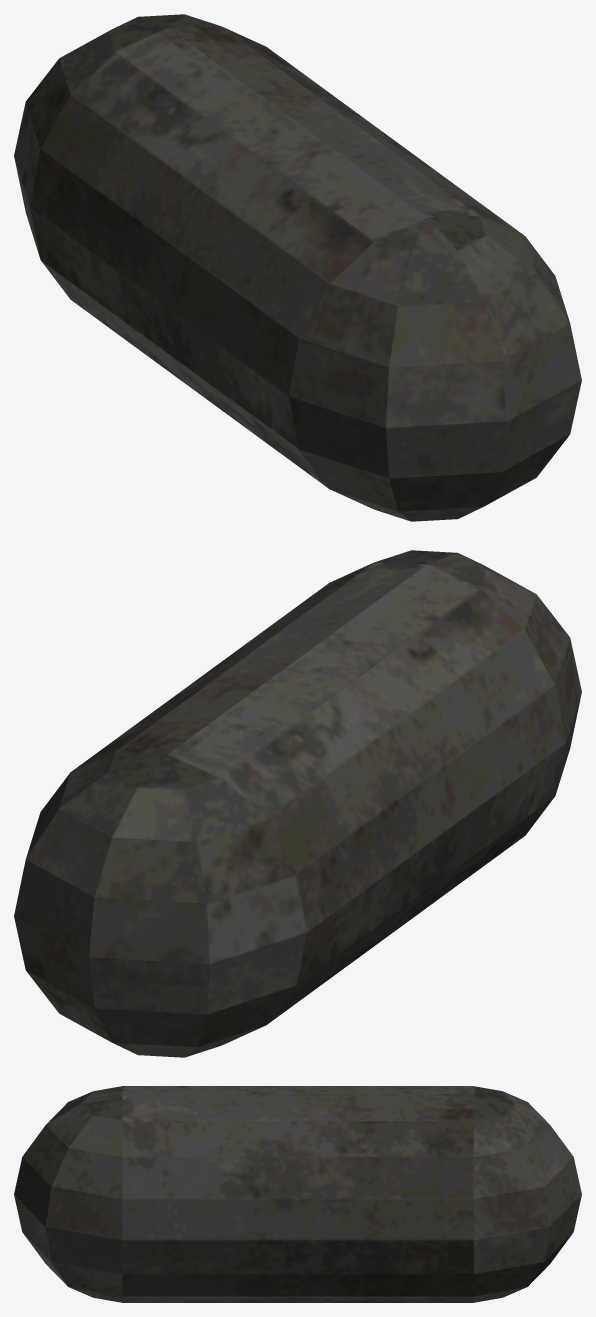
The model's file is SubB.fbx.
3 renders of one model, top to bottom at view 1: azimuth 30°, elevation 25°; view 2: azimuth 150°, elevation 25°; view 3: azimuth 270°, elevation 25°, orthographic. The views are drawn at different scales.
Visible parts, largest first — view 1: SubB_Baked; view 2: SubB_Baked; view 3: SubB_Baked.
Part boxes in pixels (left/top/right/bottom): SubB_Baked: left=14, top=14, right=581, bottom=521; SubB_Baked: left=14, top=550, right=581, bottom=1057; SubB_Baked: left=14, top=1086, right=581, bottom=1302.
Bounding box in the file's own units: 200 × 200 × 524.
1 material, 1 textured.
